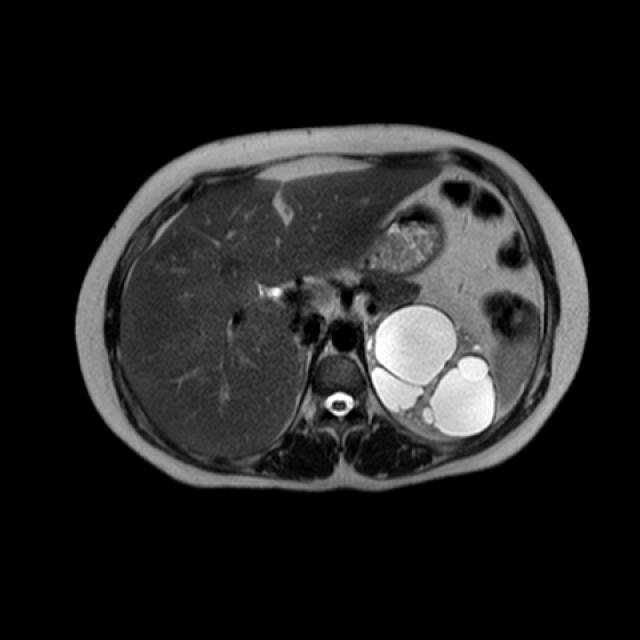sol: (366, 305, 497, 441)
